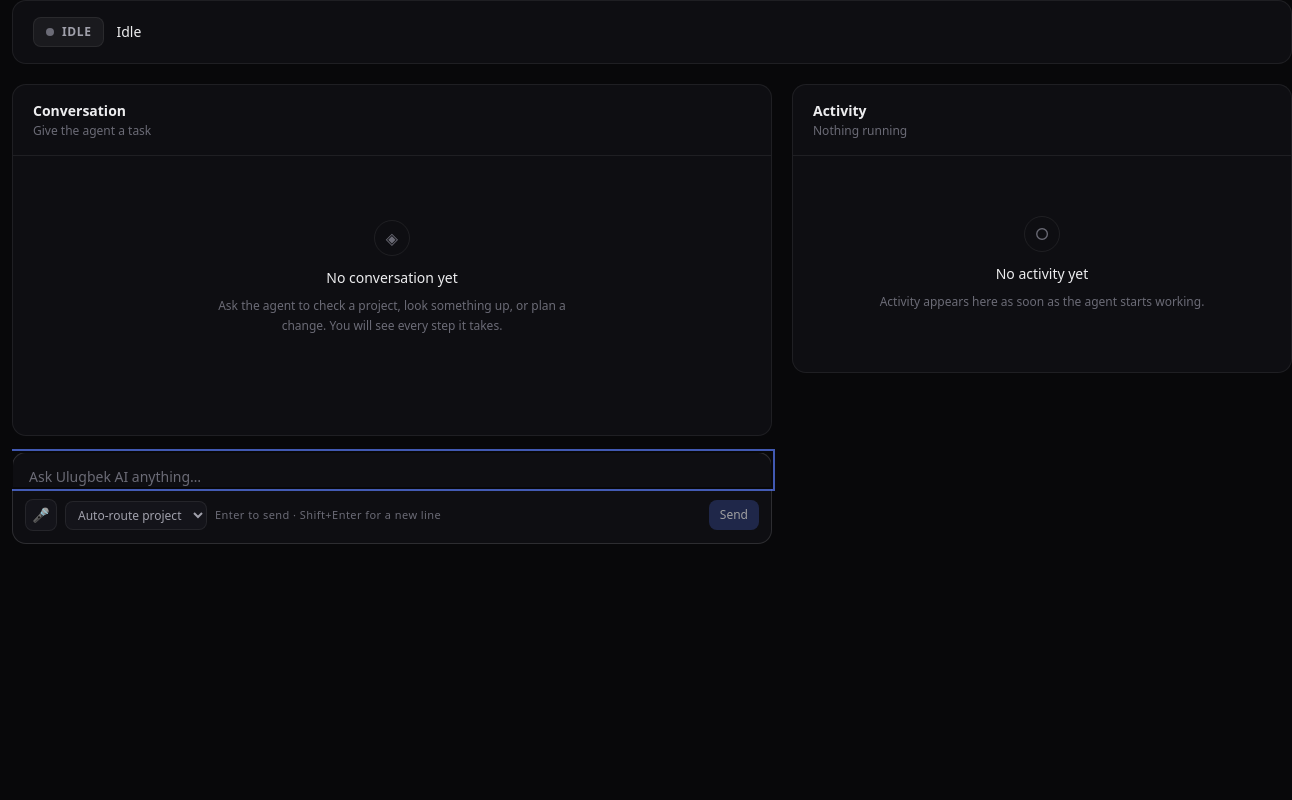
Test case: AgentConsole › reports a failed start without losing the operator's message
Type "check erp" into the text box named "Command for the agent" at (392, 470), box left=13, top=453, right=771, bottom=487
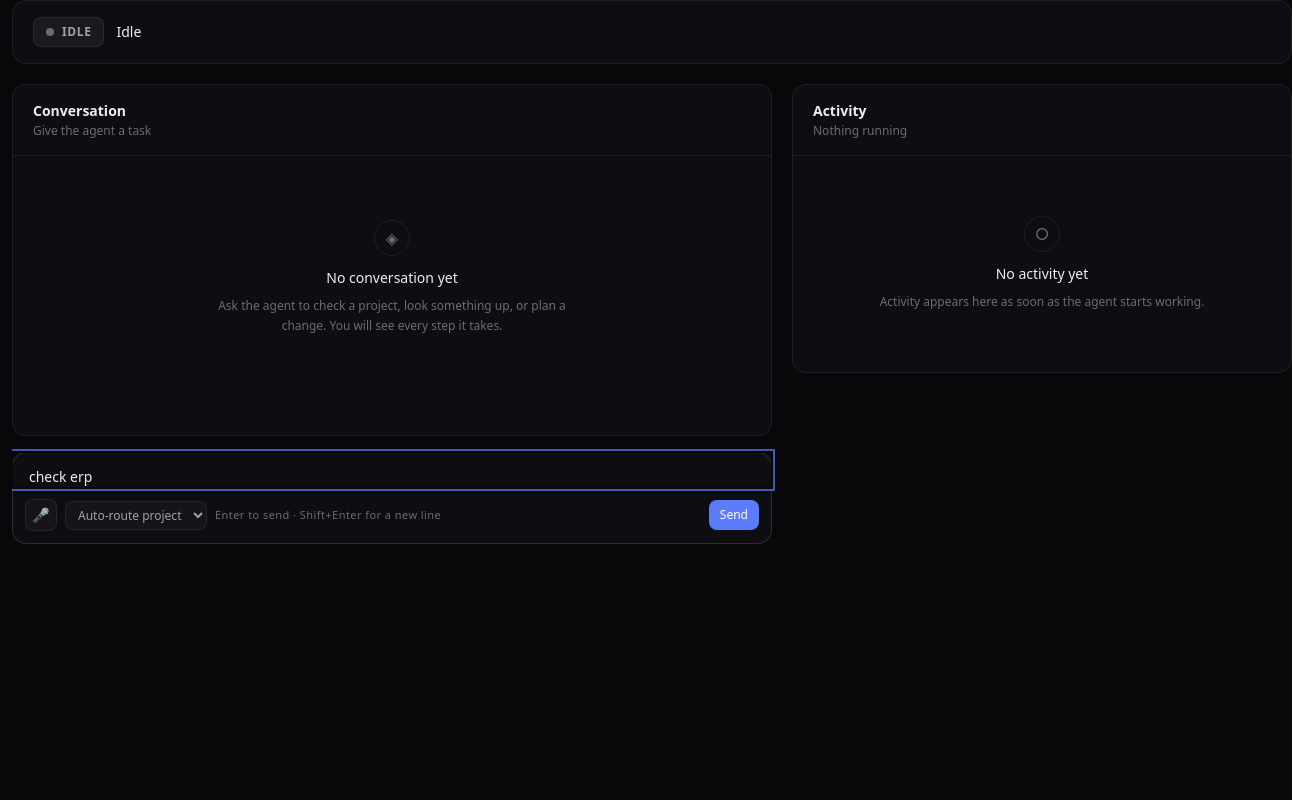
Click the button "Send" at (734, 515), box left=709, top=500, right=759, bottom=530
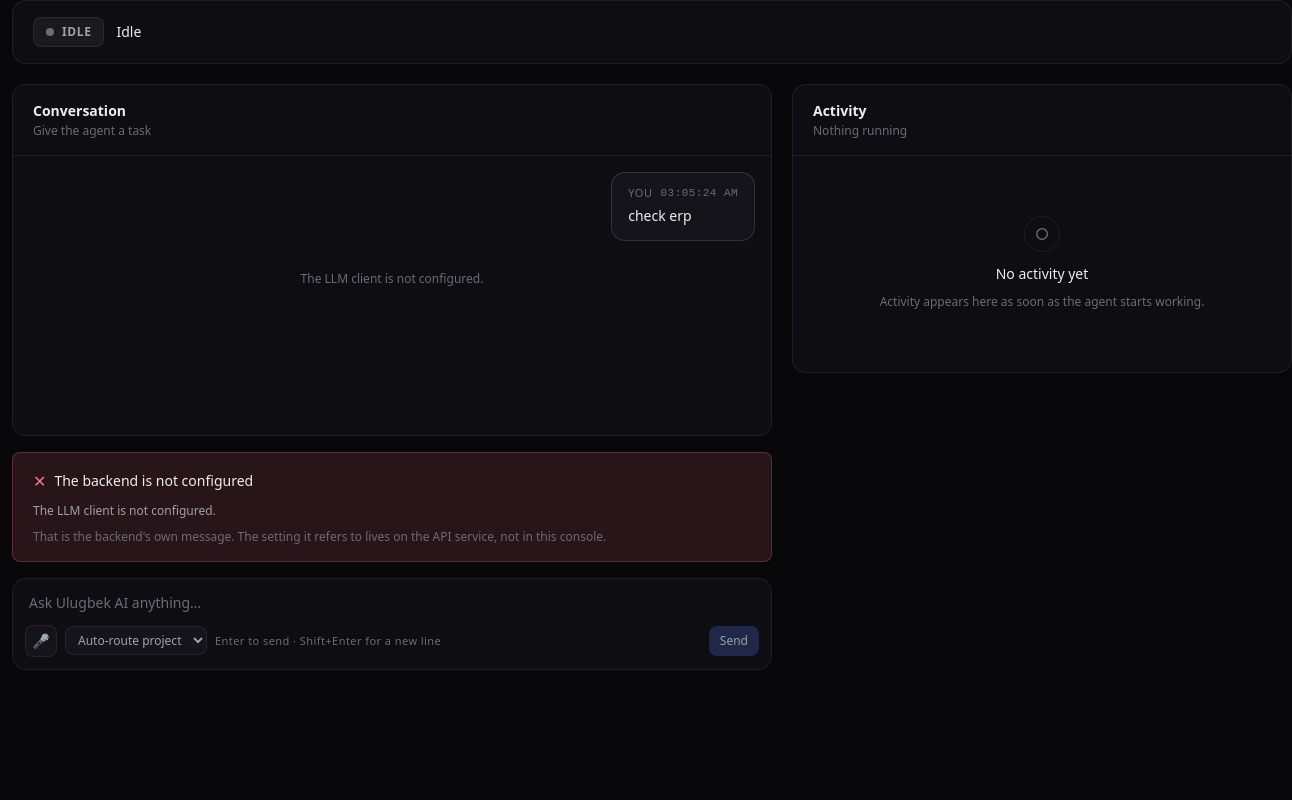
Expected: the message shows "The backend is not configured", left=54, top=471, right=253, bottom=490
Expected: the text "check erp" is shown, left=628, top=206, right=692, bottom=225
